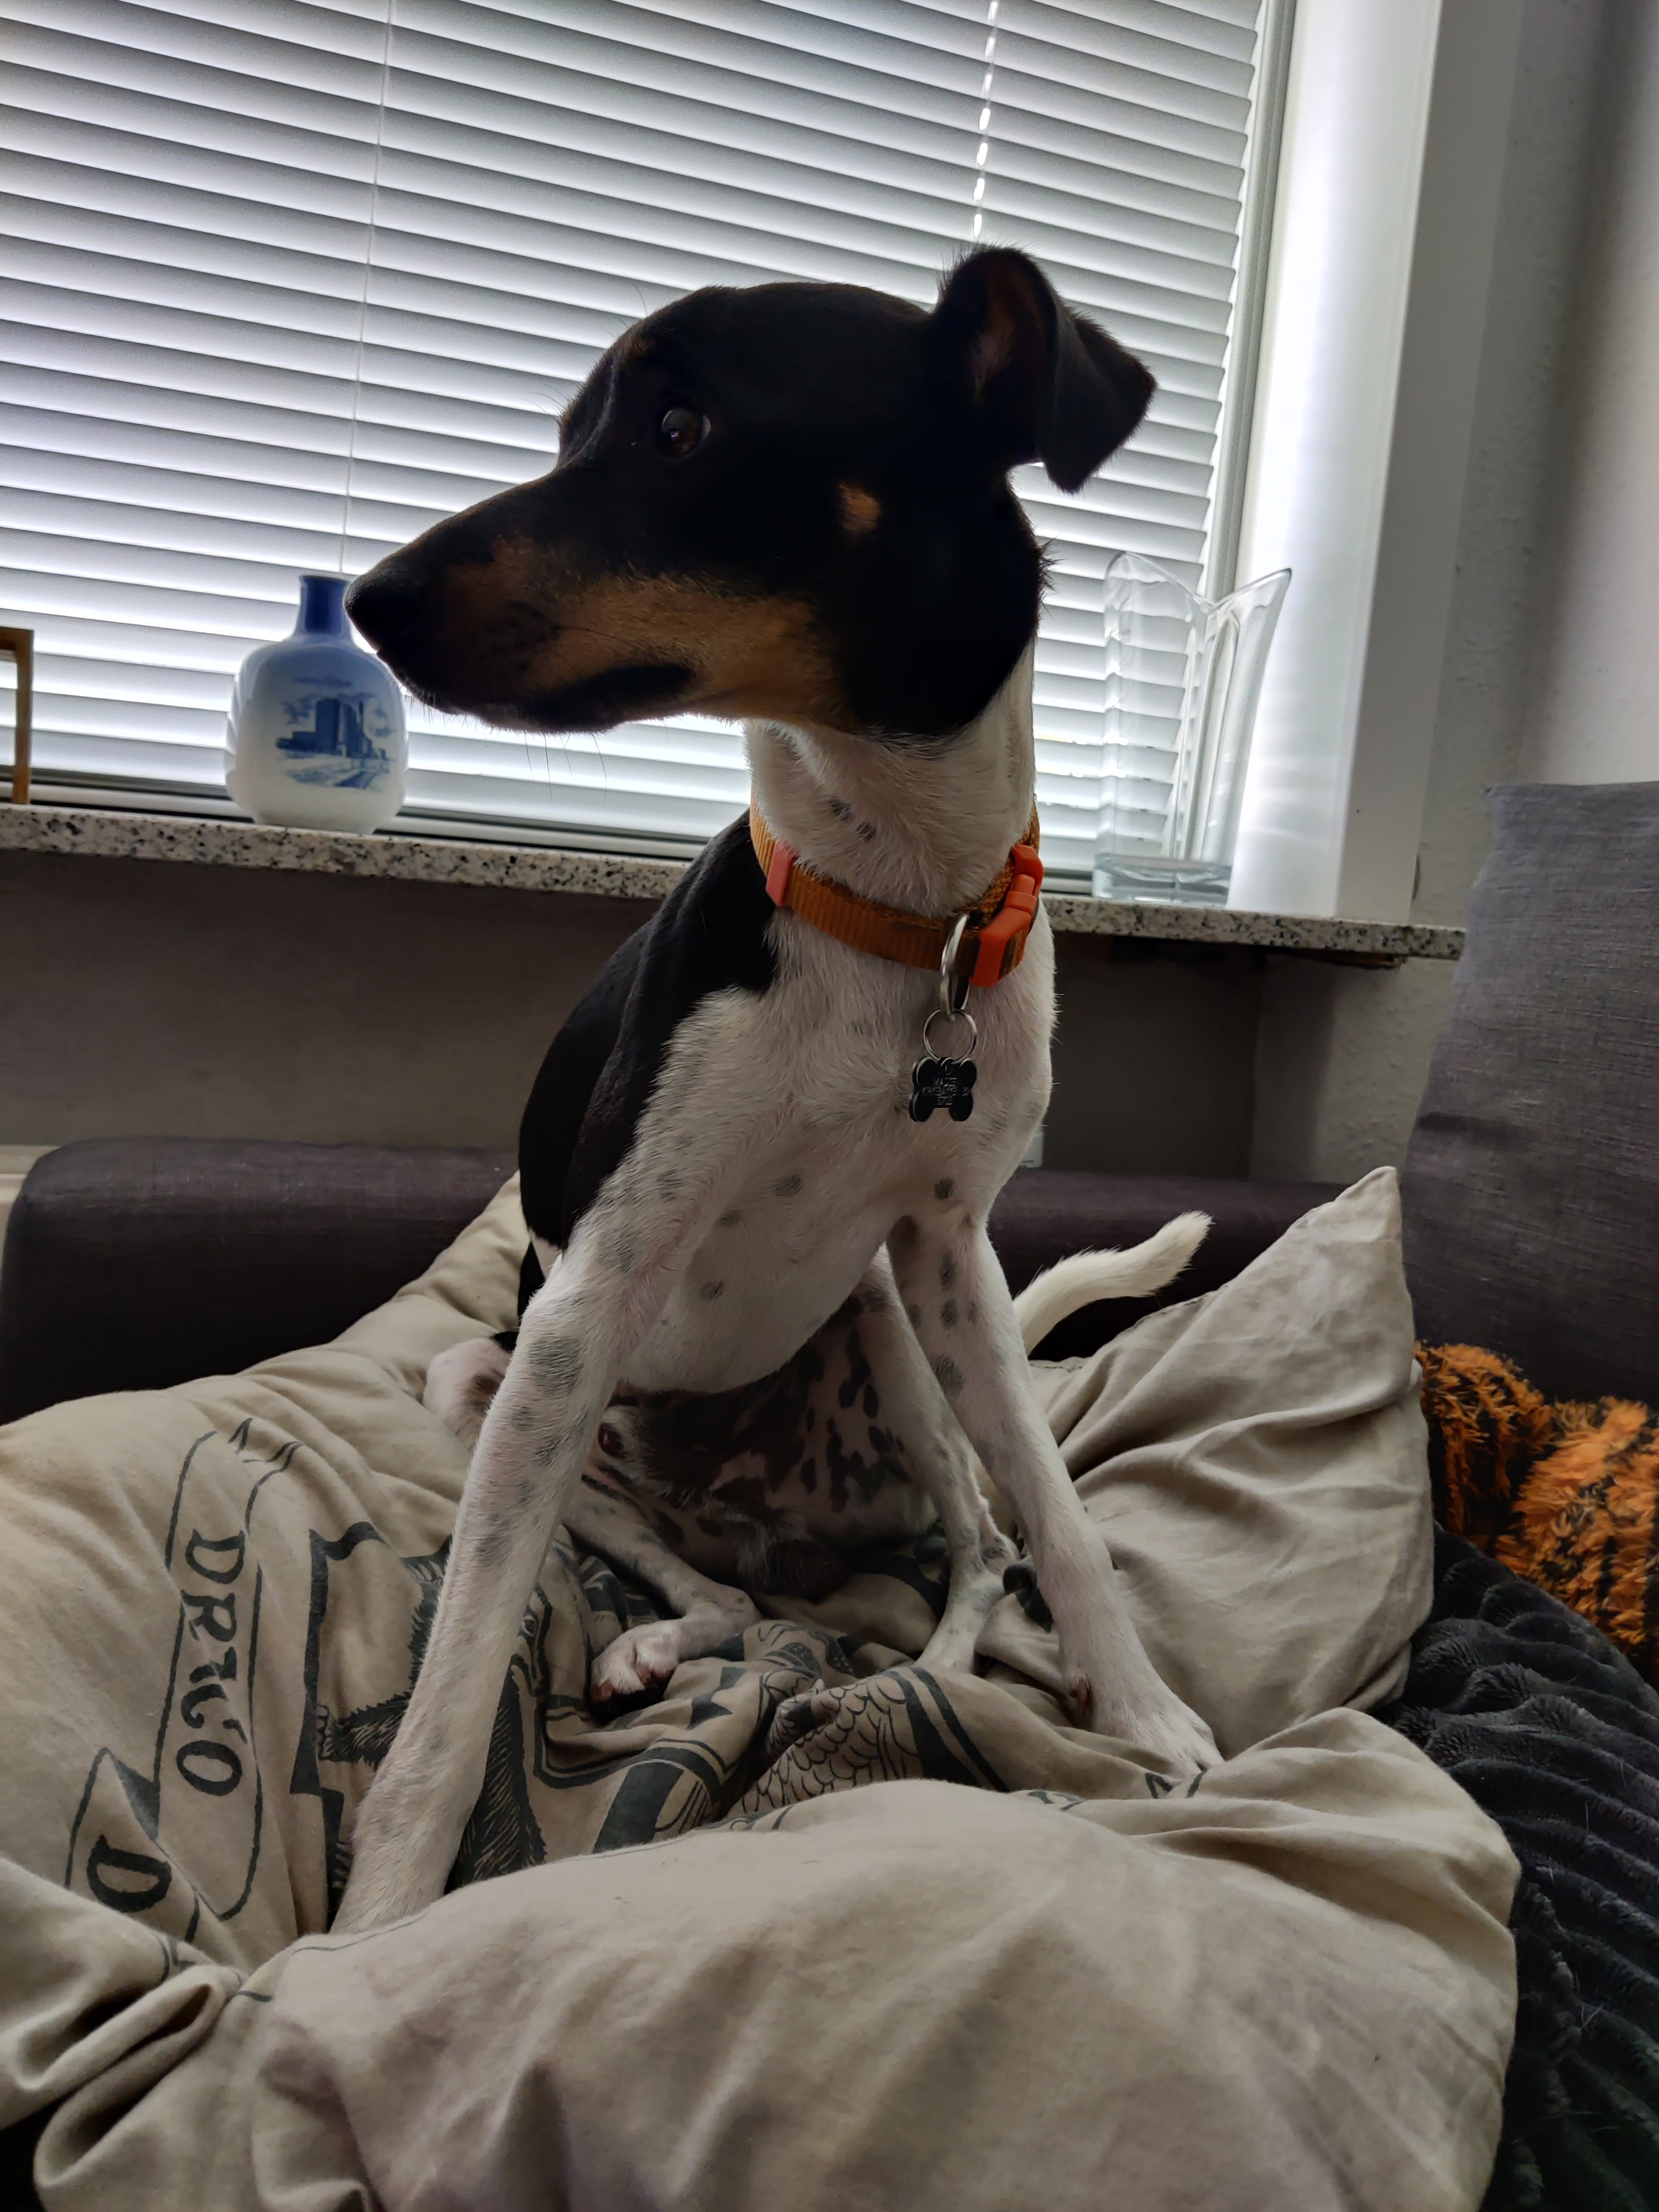Dog: (317, 202, 1262, 1961)
